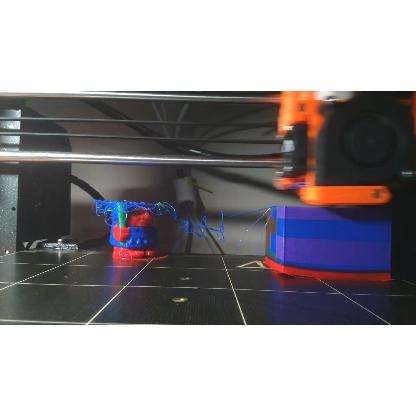fail: (95, 198, 176, 218), (181, 221, 235, 240)
